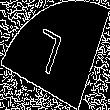L_SW: (36, 26, 74, 84)
